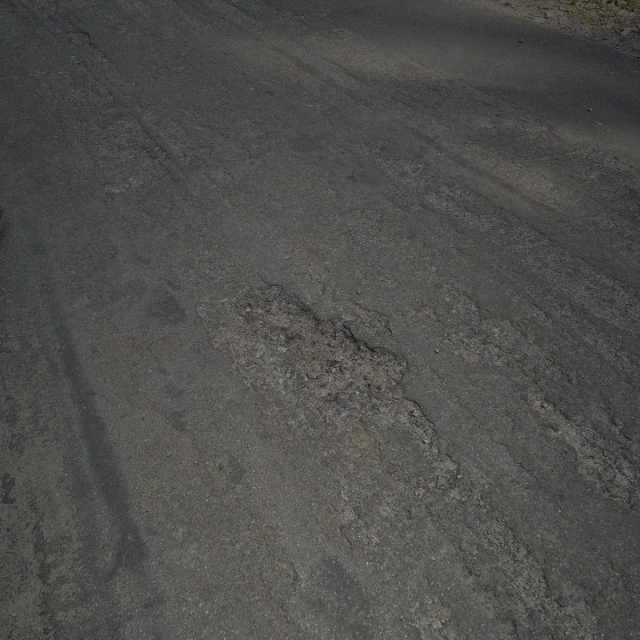pothole: (258, 295, 413, 404)
